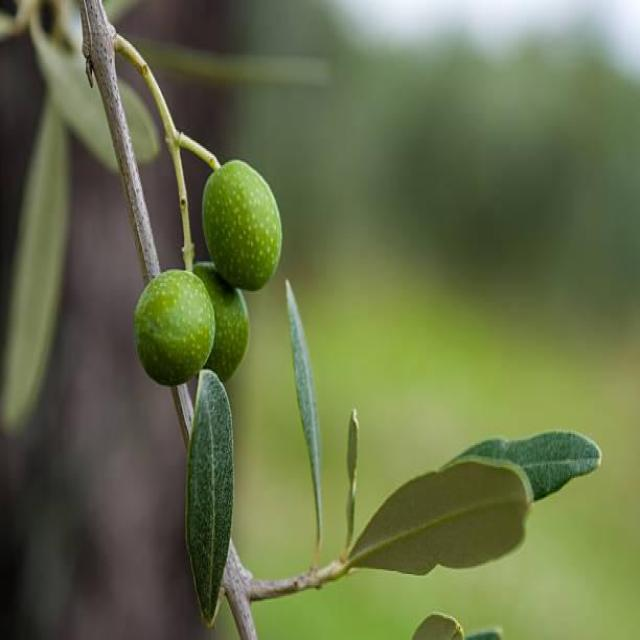Healthy: (186, 373, 233, 620), (203, 160, 282, 289), (134, 270, 215, 385), (192, 263, 247, 382)
